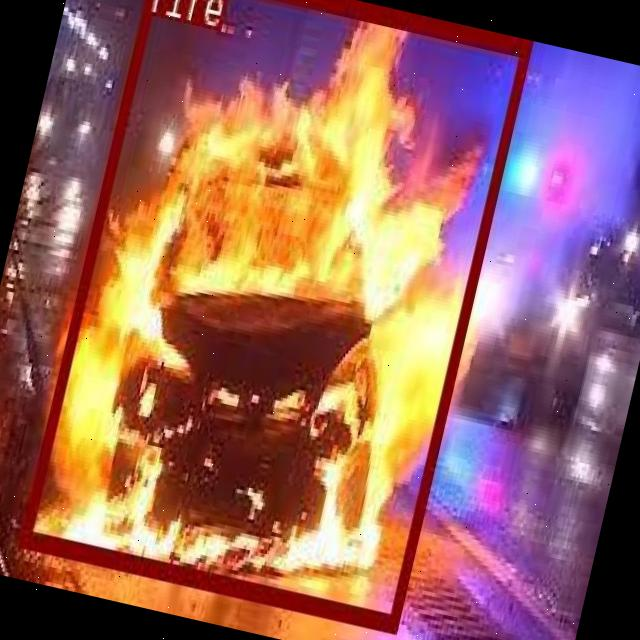fire: (17, 0, 531, 631)
